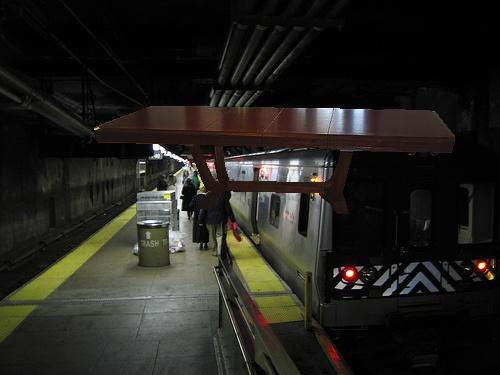tampered: (95, 107, 455, 214)
